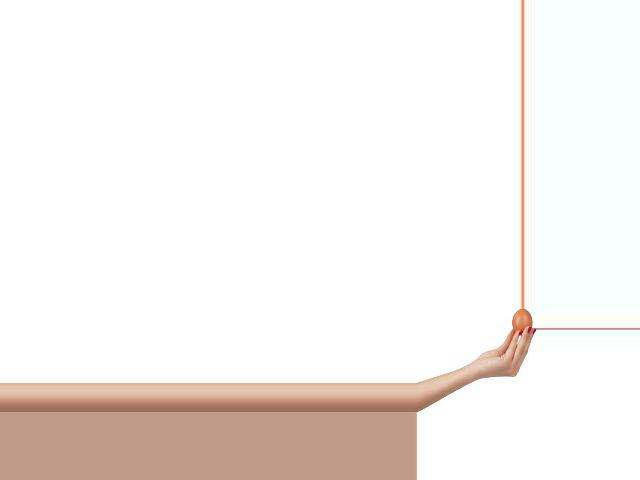egg: (511, 309, 532, 335)
